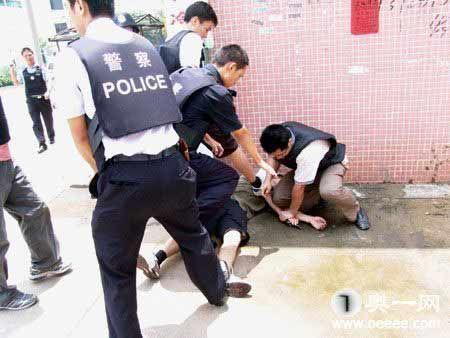Fall-Detected: (142, 150, 309, 296)
